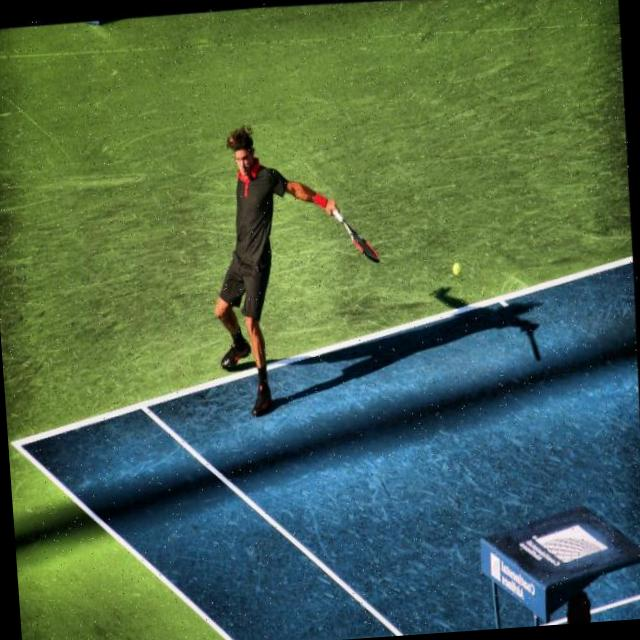Tennis Ball: (450, 260, 463, 277)
